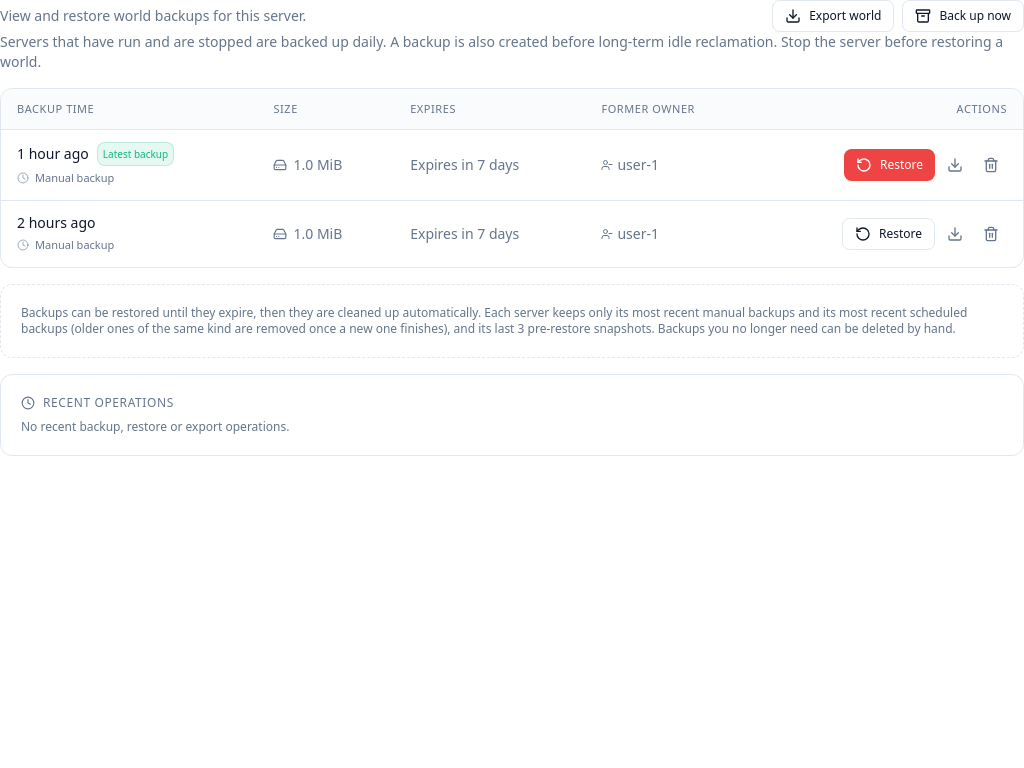
ServerBackups delete › deletes the picked backup after the confirm, then rereads the list
Expected: the text "2 hours ago" is shown, [17,213,96,233]
Click the button named "Delete backup" in the row of "2 hours ago".
click(991, 234)  # box [975,218,1007,250]
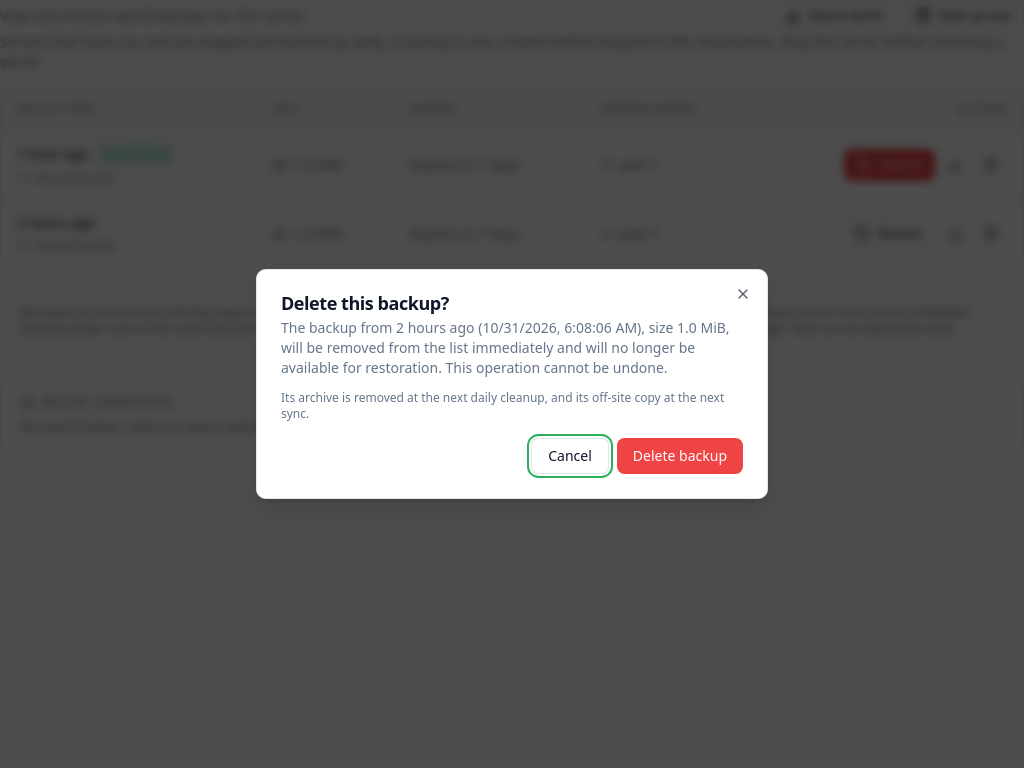
Expected: the heading "Delete this backup?" is shown, [281,291,449,315]
Expected: the dialog shows "1.0 MiB", [281,318,730,377]
Expected: the dialog shows "Its archive is removed at the next daily cleanup, and its off-site copy at the next sync.", [281,389,724,422]
Click the button "Delete backup".
click(680, 456)  # box [617,438,743,474]
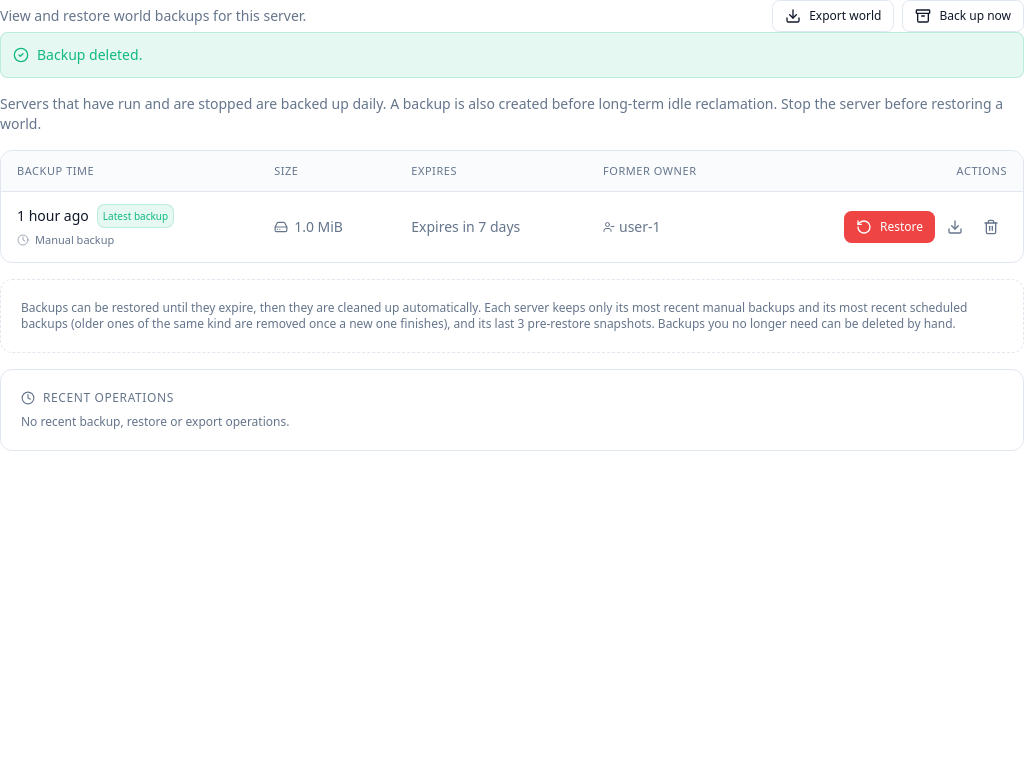
Expected: the text "Backup deleted." is shown, [37,45,142,65]
Expected: the text "2 hours ago" is gone
Expected: the dialog is gone
